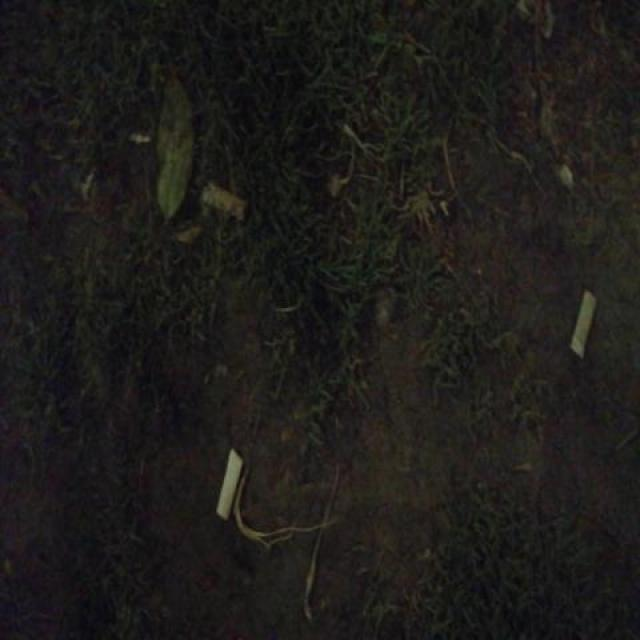non-organic waste: (195, 172, 252, 228), (565, 282, 603, 362), (213, 444, 247, 521)
